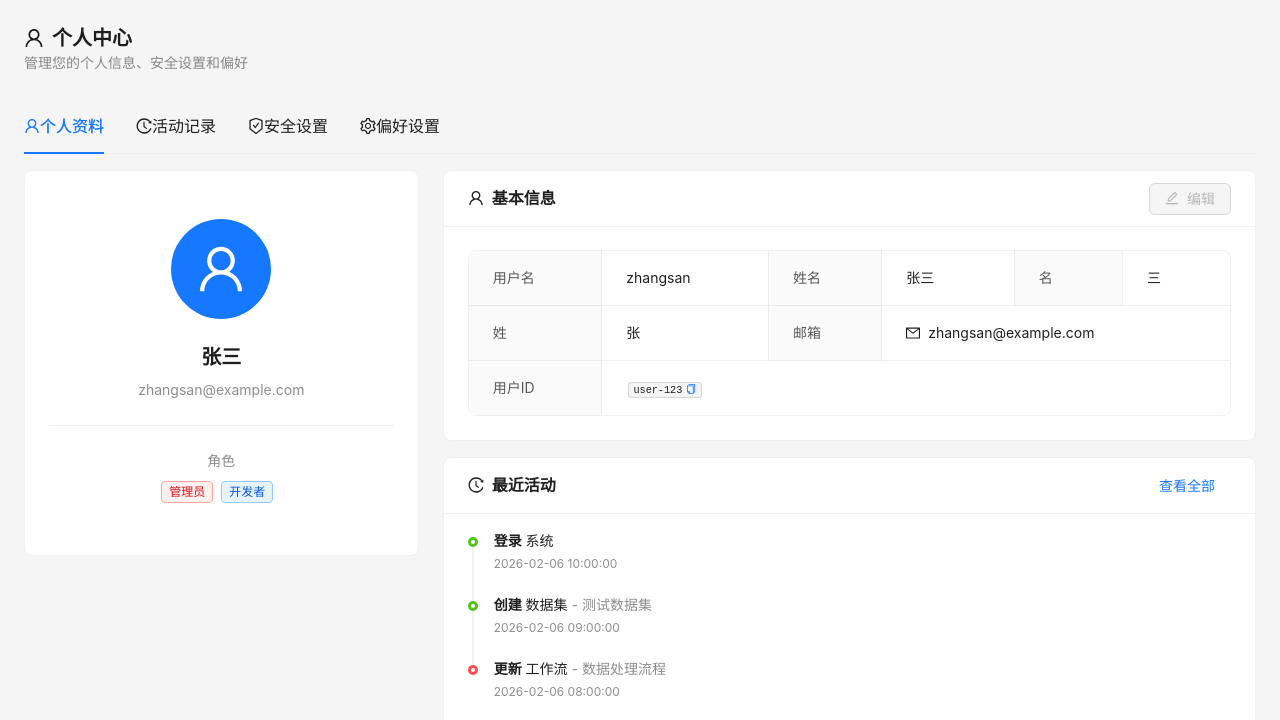
Test: ProfilePage › 安全设置 Tab › 应该显示密码管理卡片
The width and height of the screenshot is (1280, 720).
Click the tab "安全设置" at coordinates (288, 126), box [248, 114, 328, 138]
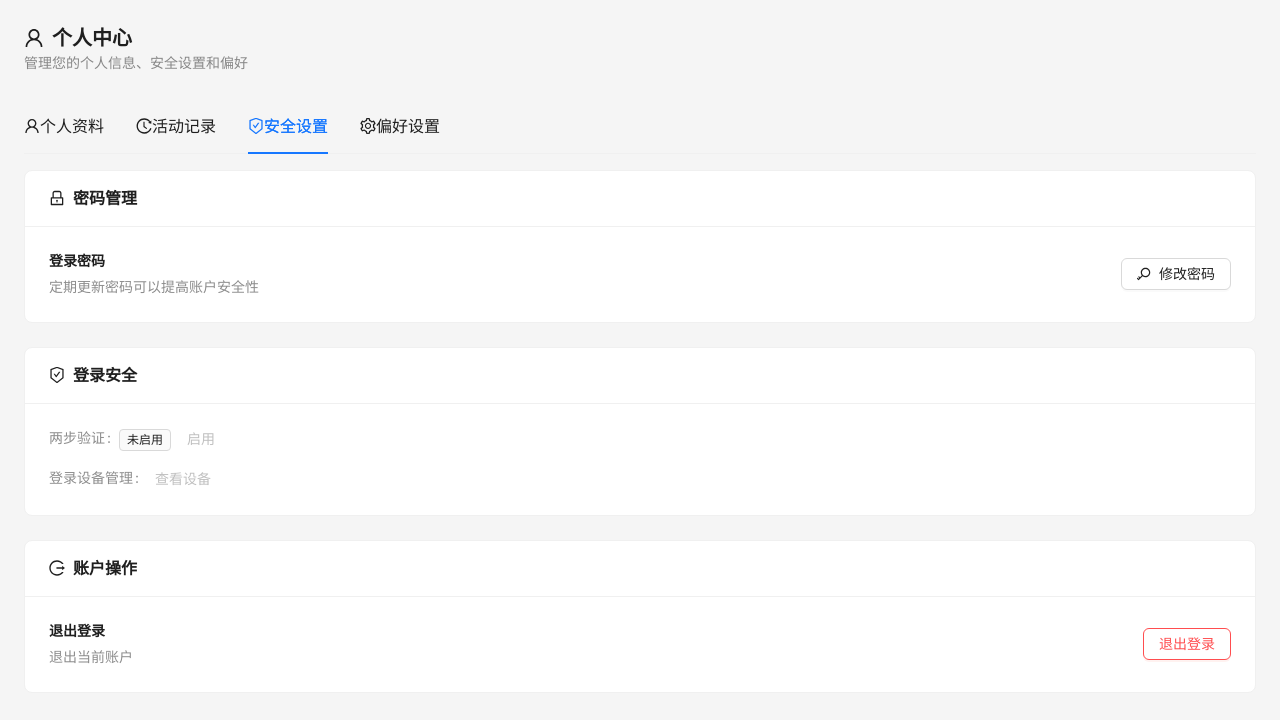
Expected: the text "密码管理" is shown, [49, 188, 137, 208]
